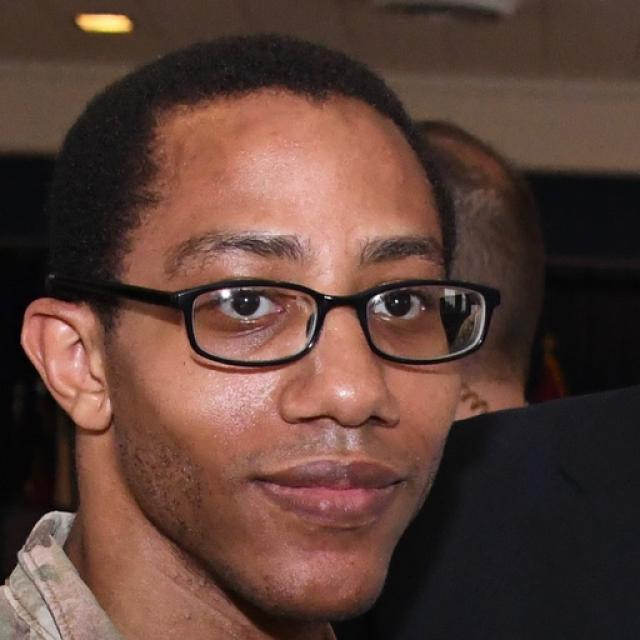Dark Circle: (211, 314, 290, 353), (375, 309, 437, 349)
